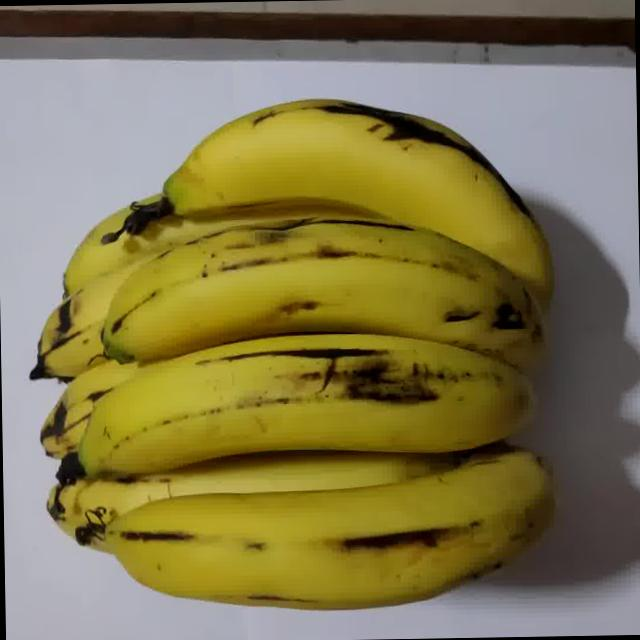banana_pacche: (12, 54, 574, 600)
